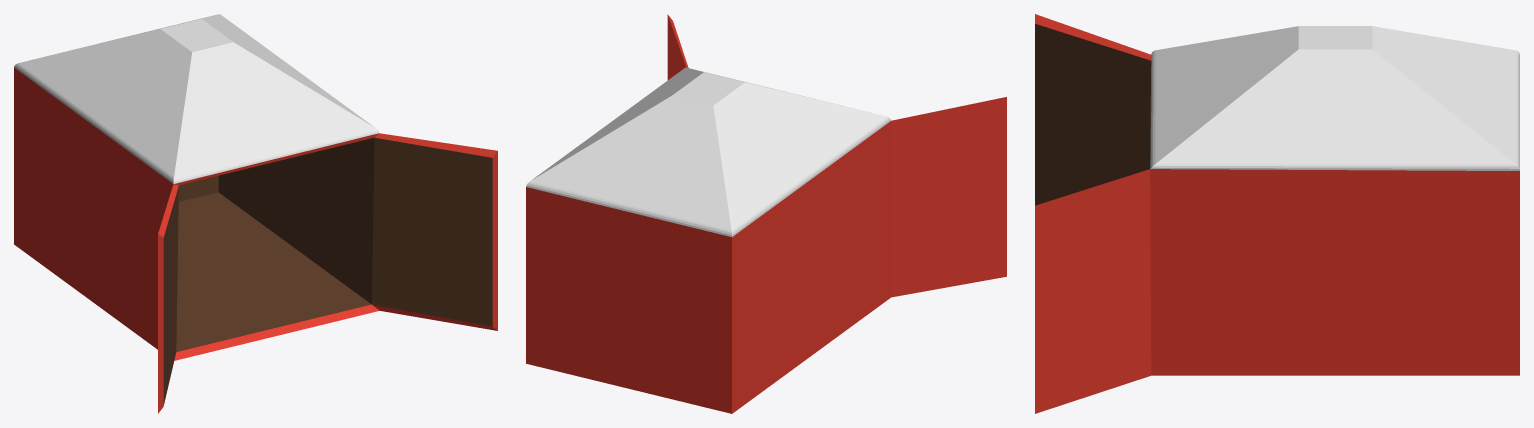
Rendered from shed uvs.fbx.
3 views of the same model, side by side, from view 1: azimuth 30°, elevation 25°; view 2: azimuth 150°, elevation 25°; view 3: azimuth 270°, elevation 25° (orthographic). The views are drawn at different scales.
Visible parts, largest first — view 1: Cube; view 2: Cube; view 3: Cube.
Part boxes in pixels (x1,y1,x2,y2): Cube: [14, 14, 497, 413]; Cube: [526, 14, 1006, 413]; Cube: [1035, 14, 1519, 413].
Bounding box in the file's own units: 804 × 547 × 859.
